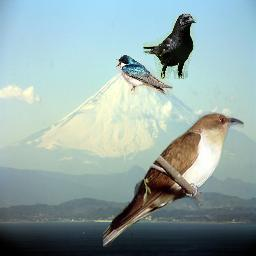Crow: (143, 13, 197, 79)
Cuckoo: (103, 111, 244, 247)
Swallow: (115, 54, 173, 95)
